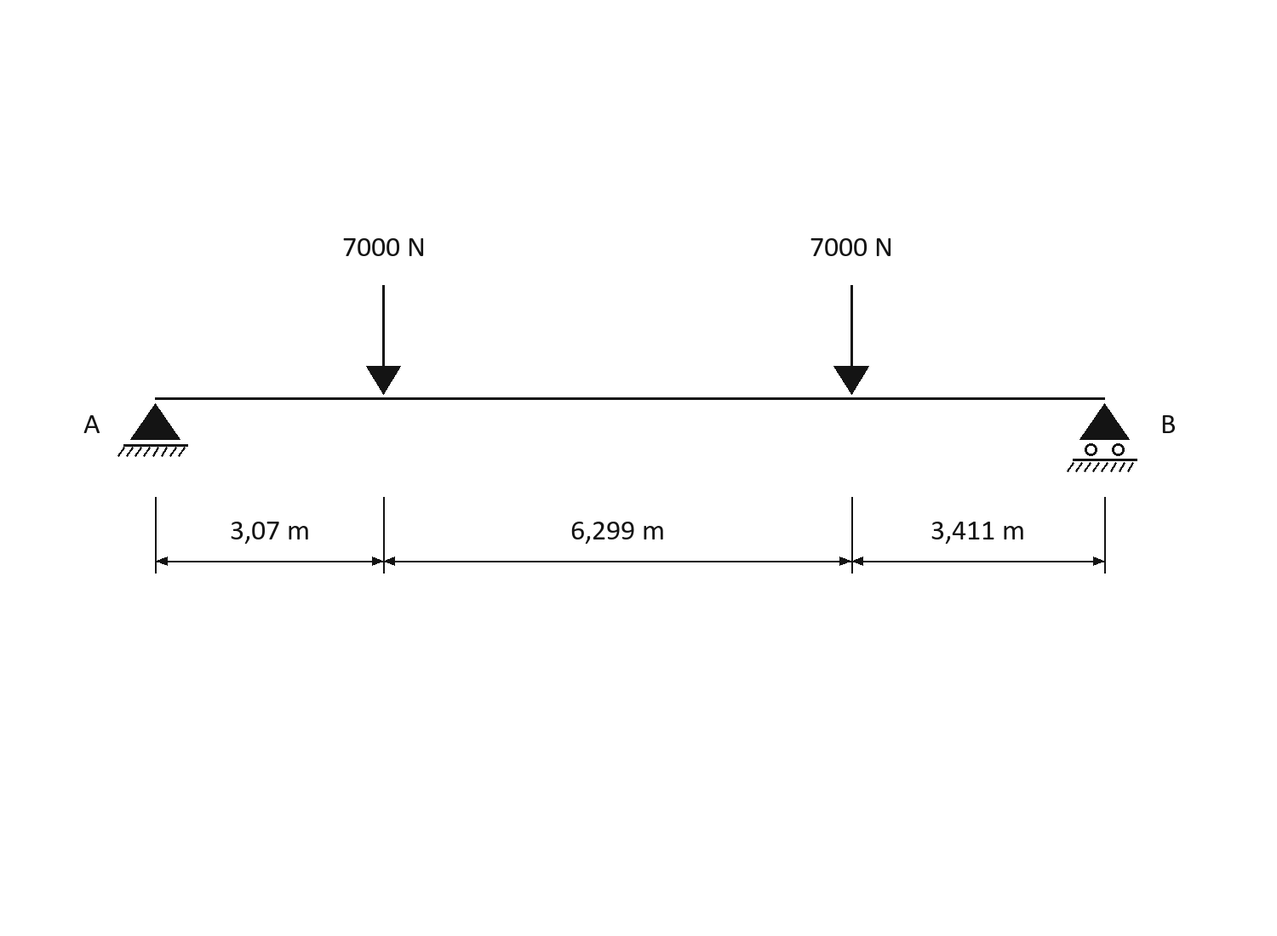pin_support: (117, 403, 188, 457)
point_load: (833, 285, 869, 395), (366, 285, 401, 395)
roller_support: (1067, 403, 1137, 472)
